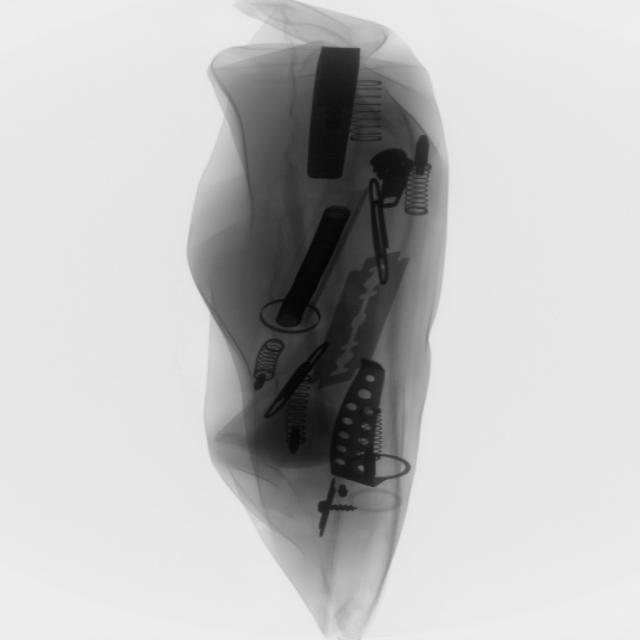BLADE: (310, 249, 405, 390), (286, 336, 383, 397), (356, 178, 405, 291)
